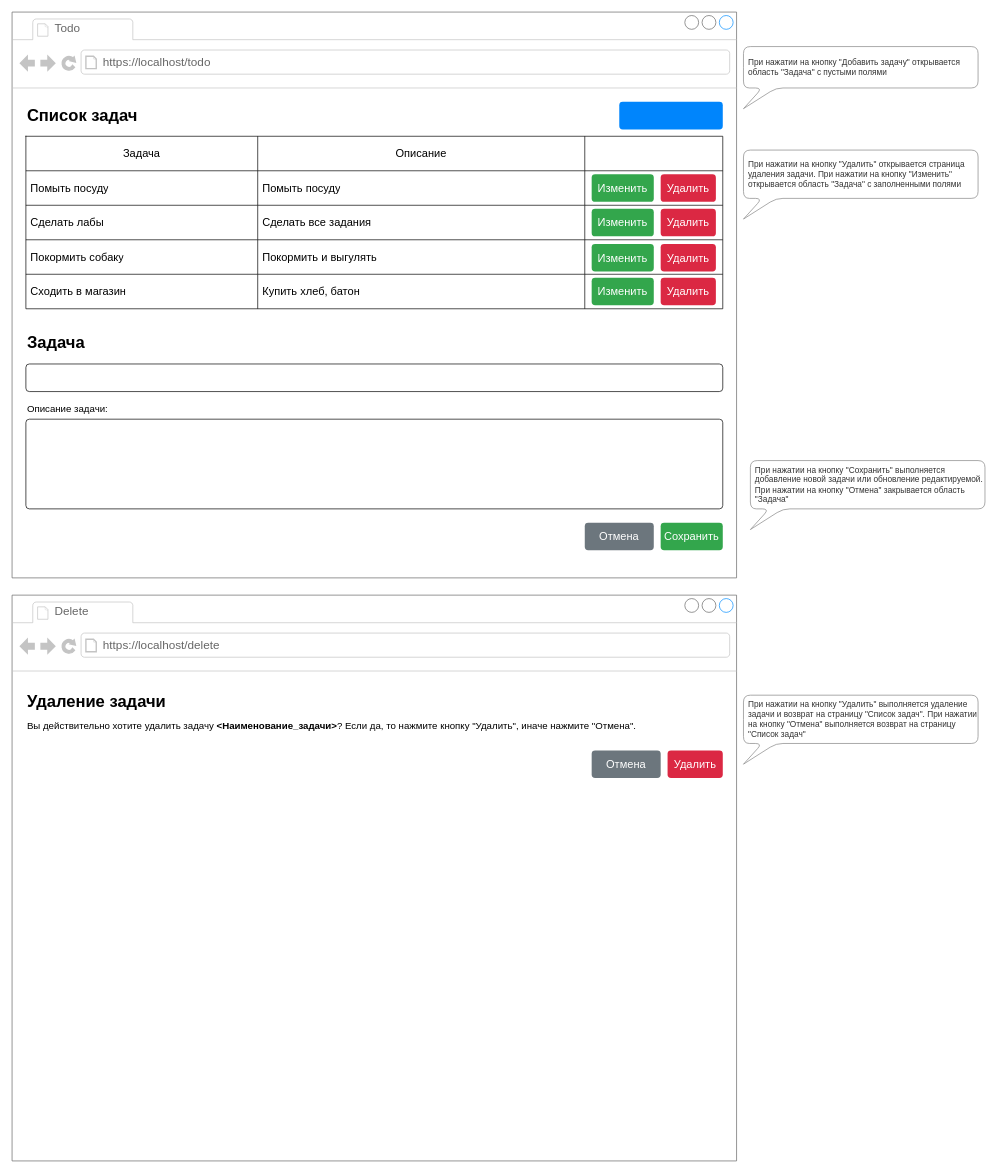
This 997x1173 diagram has some shape labels left out. Each missing label, with the centre of its shape:
"Введите заголовок задачи..." belongs at point (374, 377).
"Введите описание задачи..." belongs at point (374, 463).
"Добавить задачу" belongs at point (670, 115).
